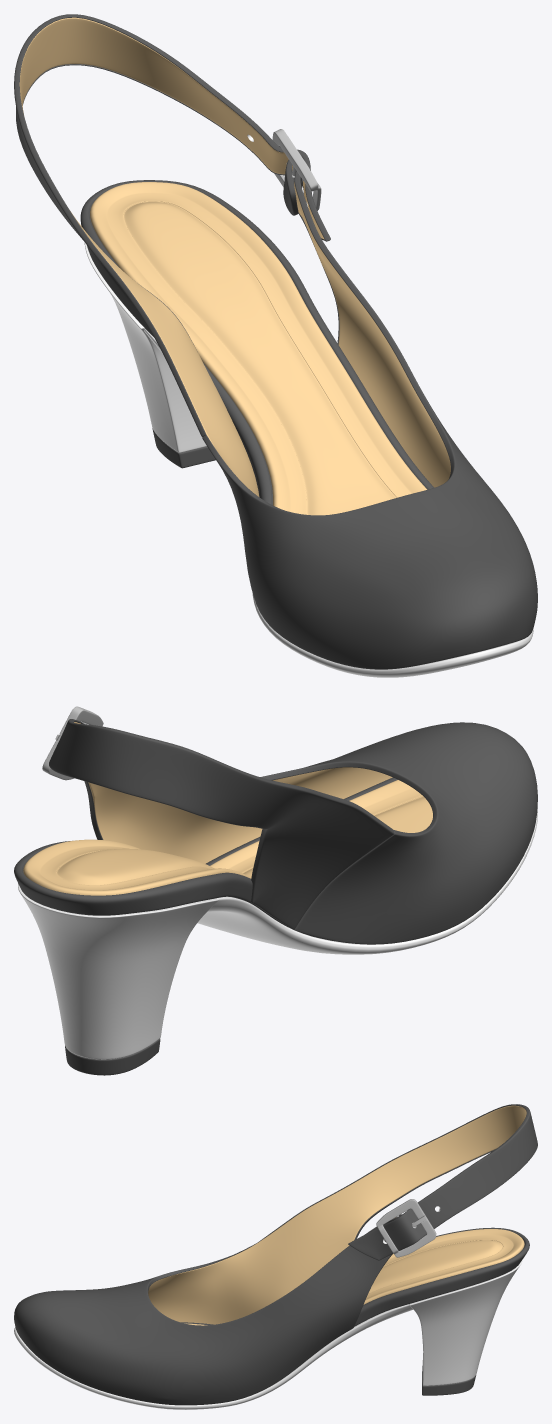
File: zapato.glb
3 renders of one model, top to bottom at view 1: azimuth 30°, elevation 25°; view 2: azimuth 150°, elevation 25°; view 3: azimuth 270°, elevation 25°, orthographic. The views are drawn at different scales.
Visible parts, largest first — view 1: Upper_part_1; view 2: Upper_part_1; view 3: Upper_part_1.
Part boxes in pixels (x1=…): Upper_part_1: x1=14, y1=14, x2=537, y2=677; Upper_part_1: x1=14, y1=706, x2=537, y2=1075; Upper_part_1: x1=14, y1=1104, x2=537, y2=1409.
Bounding box in the file's own units: 0.0864 × 0.1259 × 0.2379.
